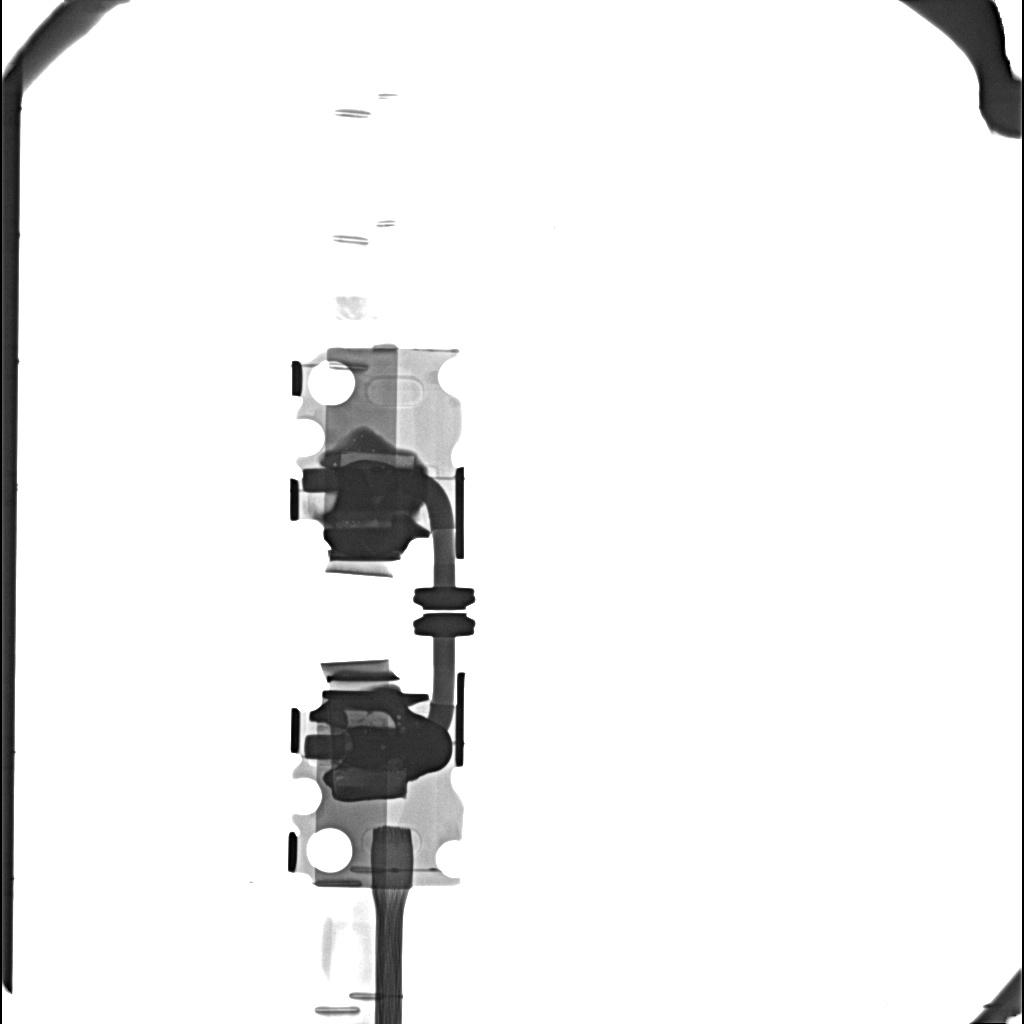defect: (347, 727, 451, 768), (335, 467, 426, 511), (338, 448, 417, 466)
